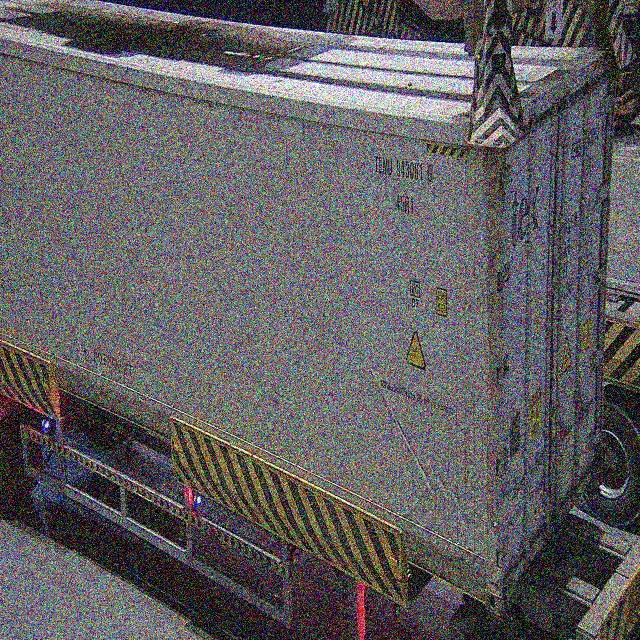Dent: (368, 356, 471, 522)
